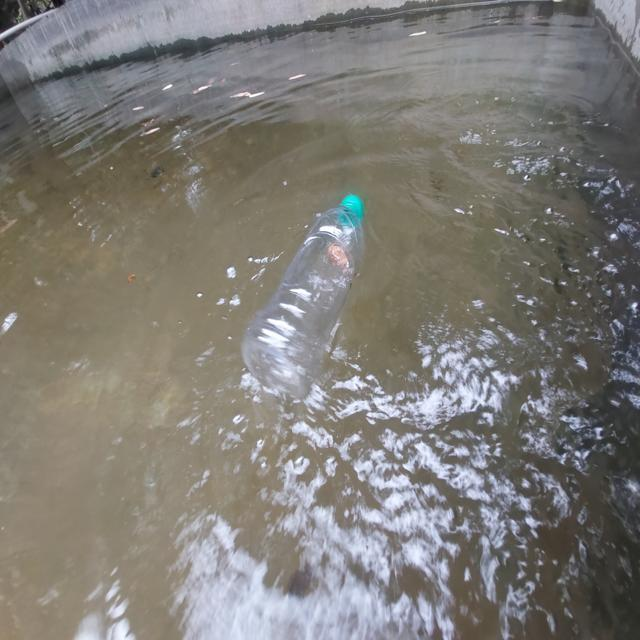waterbottle: (220, 194, 392, 414)
